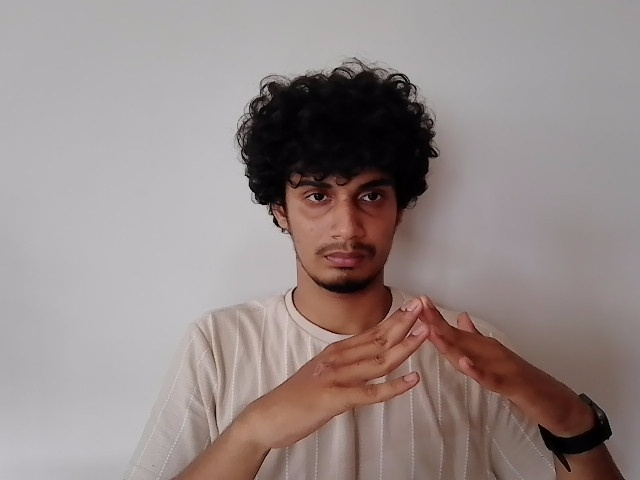home: (261, 296, 570, 428)
